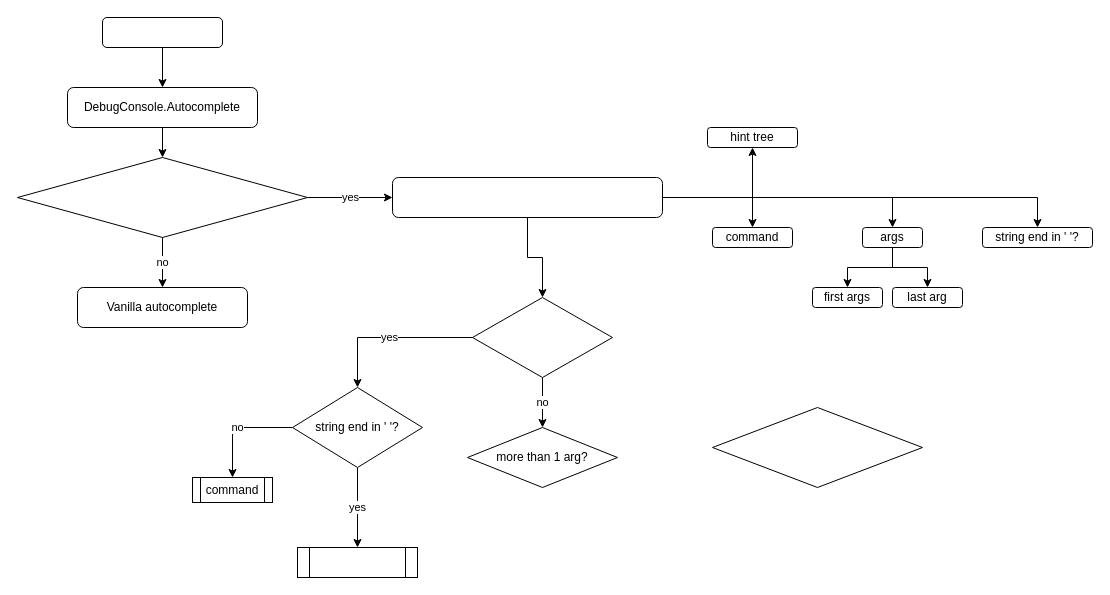
Image size: 1110x595. Some labels were removed from this diagram. The shapes that lost their labels are listed below. From the top down, each one's box as (x1, y1, x2, y2) in pixels, then its label:
(102, 16, 222, 48): Some random text
(16, 156, 308, 238): Is first word an AdvancedCommand ?
(392, 176, 662, 218): AdvancedCommand.Autocomplete
(472, 296, 612, 378): no args at all?
(296, 546, 418, 578): command hint11
